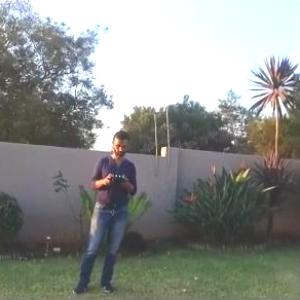follow: (68, 127, 141, 297)
